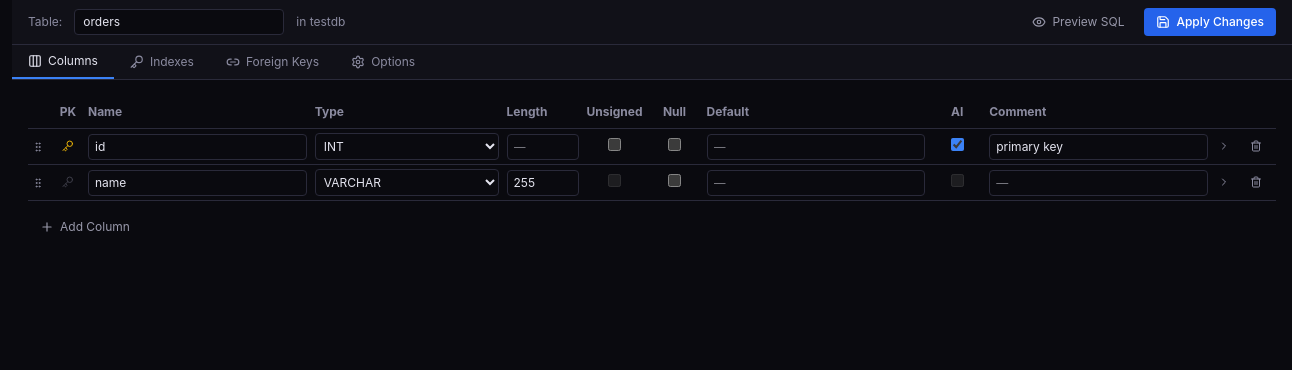
Test: TableDesigner › foreign keys › keeps the referenced column and says why when its table's columns fail (#810)
Expected: the field showing "orders" is shown, left=74, top=9, right=284, bottom=35
Click the button "Foreign Keys" at [273, 62], box left=210, top=45, right=335, bottom=79
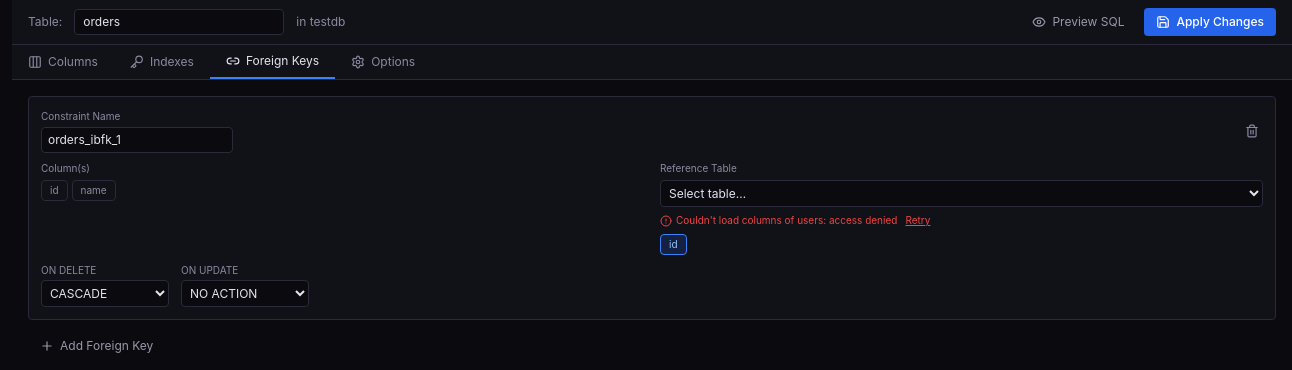
Expected: the number of buttons "id" is 2, left=41, top=180, right=68, bottom=201; left=660, top=234, right=686, bottom=255
Expected: the message shows "Couldn't load columns of users: access denied", left=660, top=213, right=930, bottom=228
Click the button "Retry" at [918, 220], box left=905, top=213, right=930, bottom=228
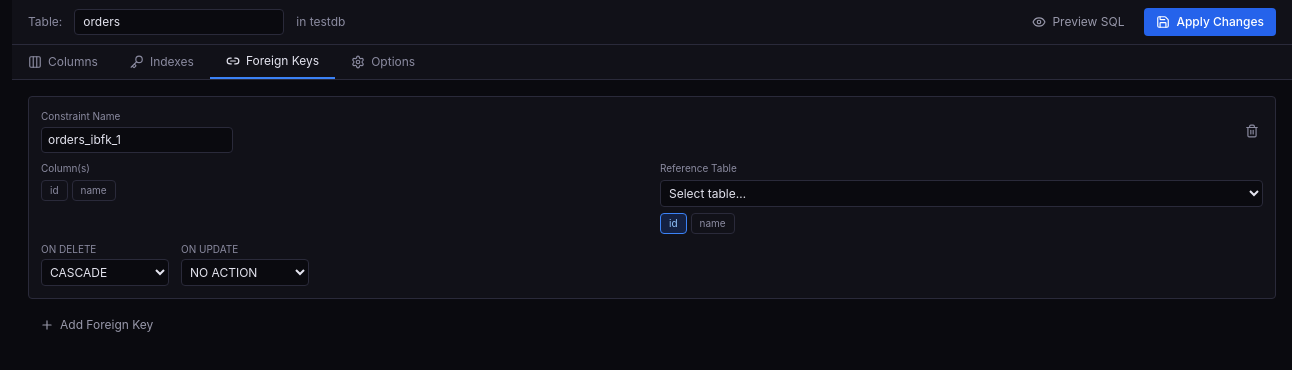
Expected: the message "Couldn't load columns of users: access denied Retry" is gone
Expected: the number of buttons "name" is 2, left=72, top=180, right=116, bottom=201; left=690, top=213, right=735, bottom=234
